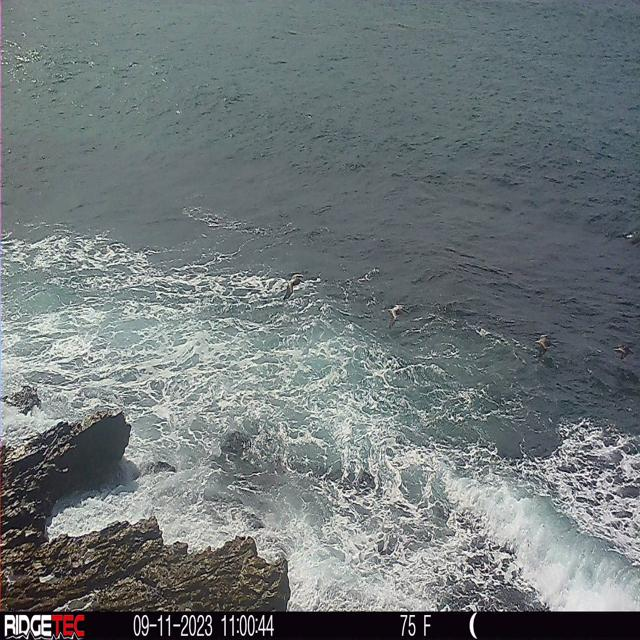bird: (282, 272, 305, 302)
